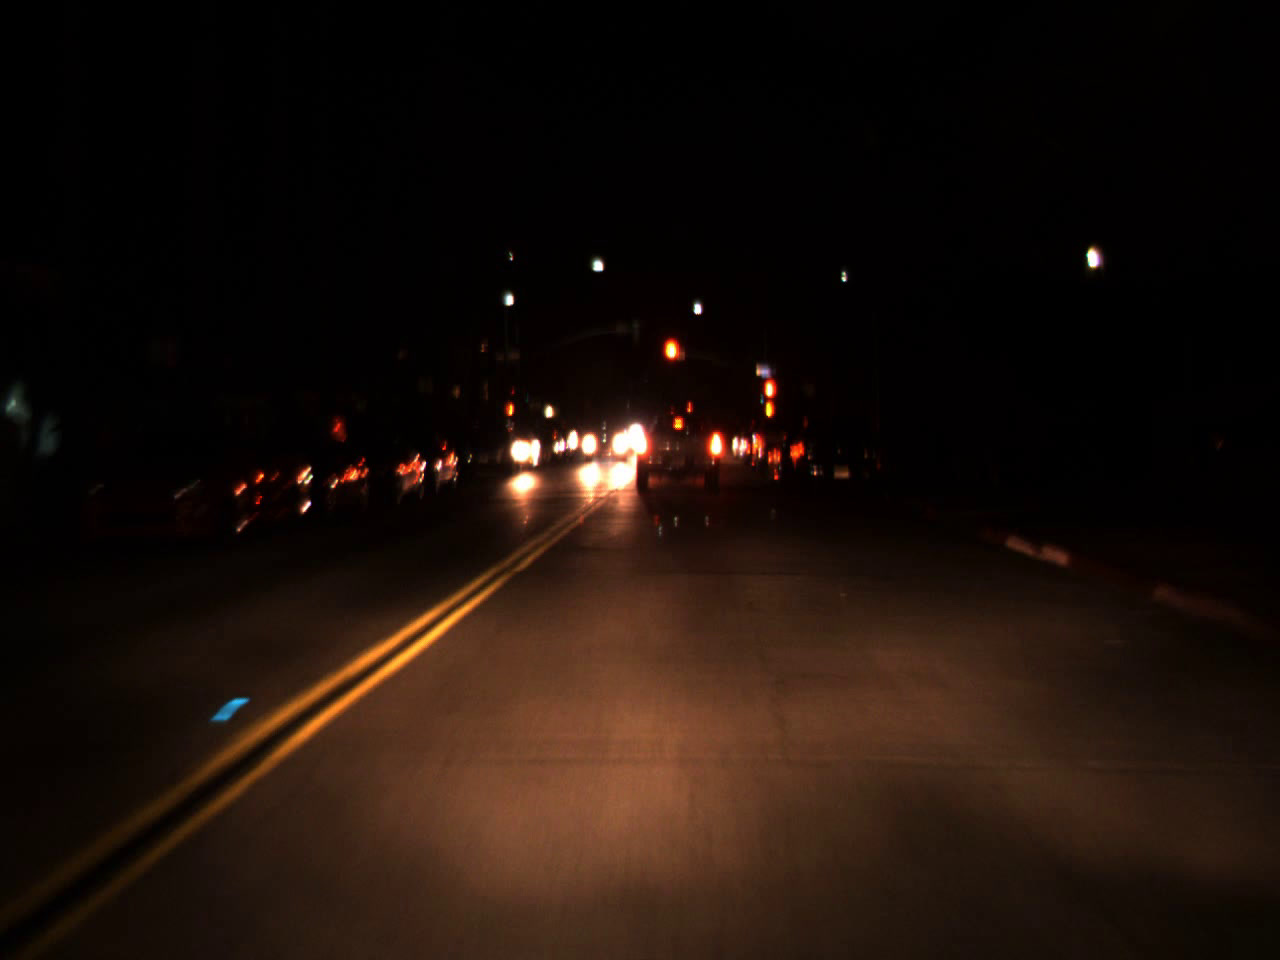stop: (661, 335, 683, 389), (761, 375, 779, 423)
